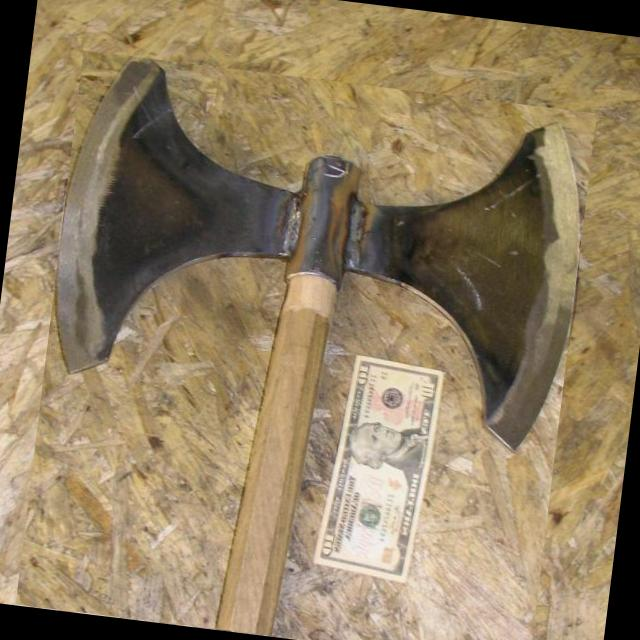Axe: (56, 58, 579, 635)
